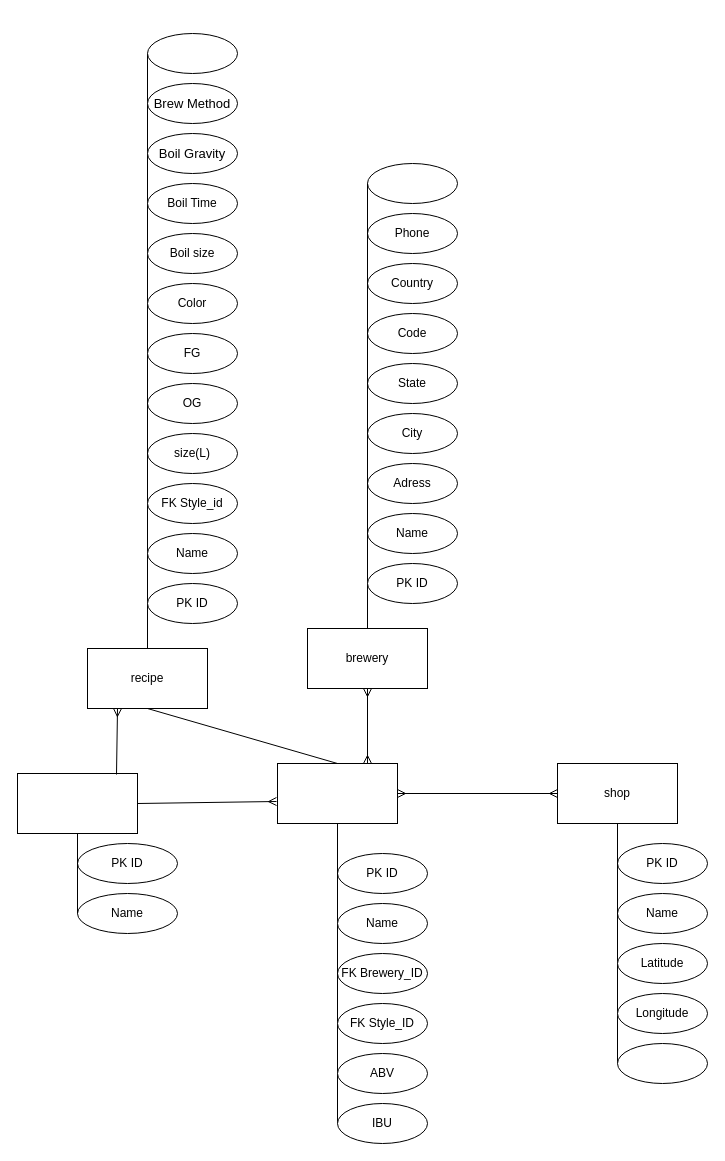
Image size: 725x1161. Some labels were removed from this diagram. Each missing label, with the box of its shape:
beer: (276, 762, 398, 824)
Efficiency: (146, 32, 238, 74)
Owner's name: (616, 1042, 708, 1084)
style: (16, 772, 138, 834)
Website: (366, 162, 458, 204)
